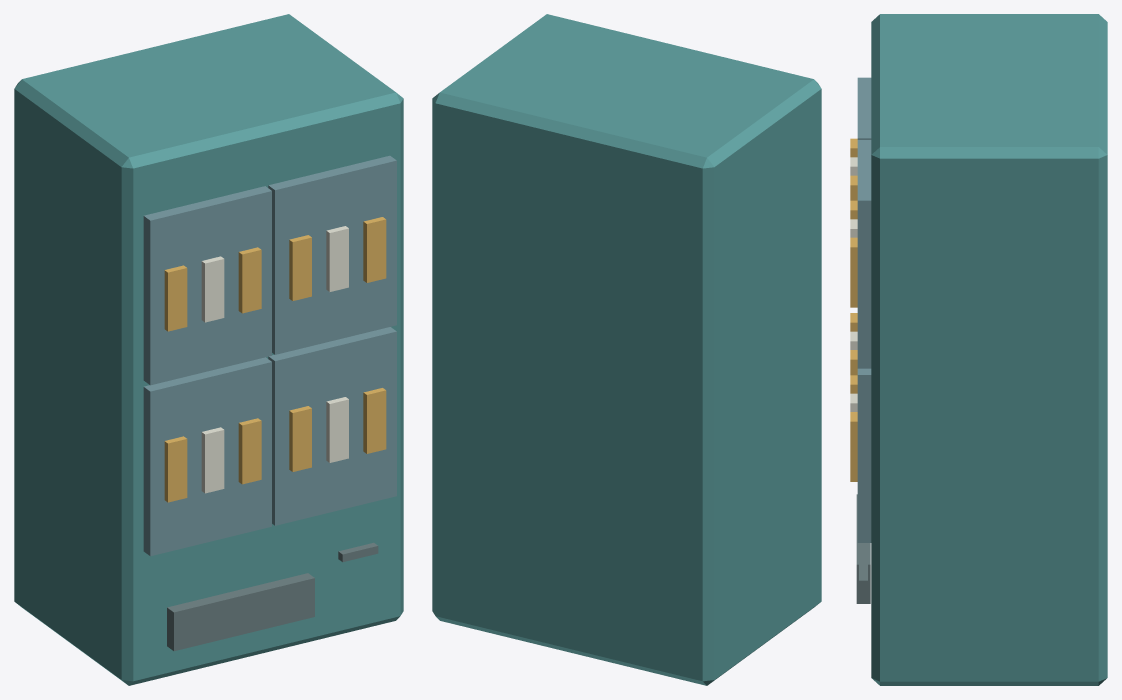
The model's file is vending_unit.fbx.
3 views of the same model, side by side, from view 1: azimuth 30°, elevation 25°; view 2: azimuth 150°, elevation 25°; view 3: azimuth 270°, elevation 25° (orthographic). The views are drawn at different scales.
Parts seen in each view (by area): view 1: vending_unit__shell, vending_unit__front_tile.002, vending_unit__front_tile, vending_unit__front_tile.003, vending_unit__front_tile.001, vending_unit__delivery_slot, vending_unit__product.002, vending_unit__product.005, vending_unit__product.001, vending_unit__product.008, vending_unit__product, vending_unit__product.006 (+6 smaller); view 2: vending_unit__shell; view 3: vending_unit__shell, vending_unit__front_tile.003, vending_unit__front_tile.001, vending_unit__front_tile.002, vending_unit__delivery_slot, vending_unit__product.011, vending_unit__product.005.
Boxes of the visible parts, x1,y1,x2,y2 form: vending_unit__shell: [14, 14, 403, 685]; vending_unit__front_tile.002: [143, 186, 271, 385]; vending_unit__front_tile: [143, 357, 271, 556]; vending_unit__front_tile.003: [268, 155, 396, 354]; vending_unit__front_tile.001: [268, 327, 396, 525]; vending_unit__delivery_slot: [167, 573, 314, 651]; vending_unit__product.002: [238, 418, 261, 484]; vending_unit__product.005: [363, 388, 386, 453]; vending_unit__product.001: [201, 427, 224, 493]; vending_unit__product.008: [238, 247, 261, 313]; vending_unit__product: [164, 436, 187, 502]; vending_unit__product.006: [164, 265, 187, 331]; vending_unit__shell: [432, 14, 821, 685]; vending_unit__shell: [871, 14, 1107, 685]; vending_unit__front_tile.003: [857, 140, 871, 368]; vending_unit__front_tile.001: [857, 368, 871, 542]; vending_unit__front_tile.002: [857, 77, 871, 139]; vending_unit__delivery_slot: [856, 494, 870, 603]; vending_unit__product.011: [850, 237, 857, 307]; vending_unit__product.005: [850, 412, 857, 481].
Bounding box in the file's own units: 190 × 340 × 147.
